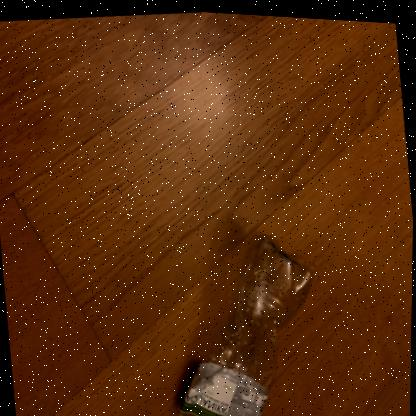Plastic: (178, 232, 310, 416)
